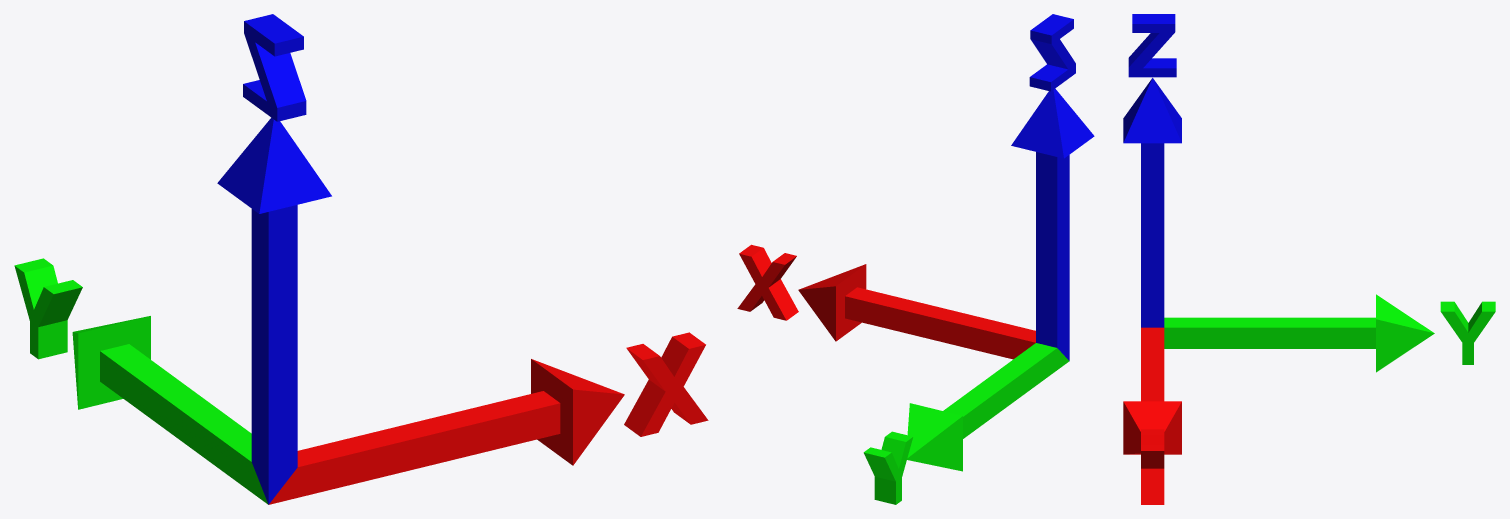
The model's file is frame_visual.dae.
3 views of the same model, side by side, from view 1: azimuth 30°, elevation 25°; view 2: azimuth 150°, elevation 25°; view 3: azimuth 270°, elevation 25° (orthographic). The views are drawn at different scales.
Parts seen in each view (by area): view 1: Brep (×3), Extrusion (×3); view 2: Brep (×3), Extrusion (×3); view 3: Brep (×3), Extrusion (×3).
Part boxes in pixels (left/top/right/bottom): Brep (×3): left=72, top=117, right=624, bottom=504; Extrusion (×3): left=14, top=14, right=708, bottom=436; Brep (×3): left=798, top=88, right=1094, bottom=471; Extrusion (×3): left=737, top=14, right=1075, bottom=504; Brep (×3): left=1123, top=78, right=1434, bottom=454; Extrusion (×3): left=1128, top=14, right=1495, bottom=504.
Size of the model in its own units: 127 by 127 by 128.
